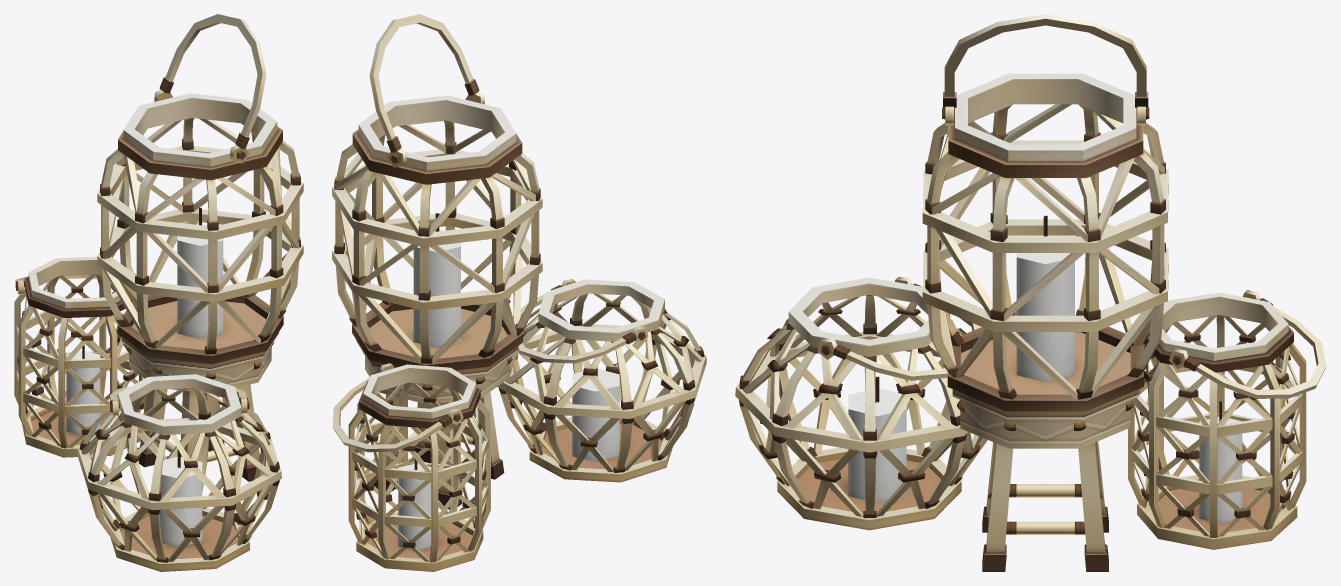
File: my_sunshineresort_01_woodenpot_01.glb
The picture shows the model from 3 angles, left to right: view 1: azimuth 30°, elevation 25°; view 2: azimuth 150°, elevation 25°; view 3: azimuth 270°, elevation 25°; orthographic projection. The views are drawn at different scales.
Parts seen in each view (by area): view 1: my_sunshineresort_01_woodenpot_01; view 2: my_sunshineresort_01_woodenpot_01; view 3: my_sunshineresort_01_woodenpot_01.
Boxes of the visible parts, x1,y1,x2,y2 form: my_sunshineresort_01_woodenpot_01: (14, 14, 303, 571); my_sunshineresort_01_woodenpot_01: (332, 14, 706, 571); my_sunshineresort_01_woodenpot_01: (735, 14, 1326, 571).
Bounding box in the file's own units: 0.00386 × 0.00613 × 0.00589.
Materials: 1 (1 with a texture image).
